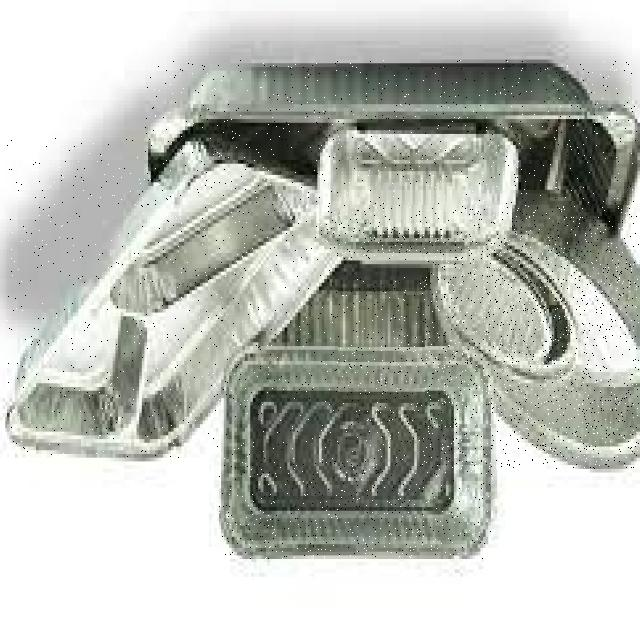metal: (8, 138, 338, 457), (219, 276, 494, 558), (146, 60, 637, 204), (426, 201, 639, 469), (320, 127, 520, 260)
